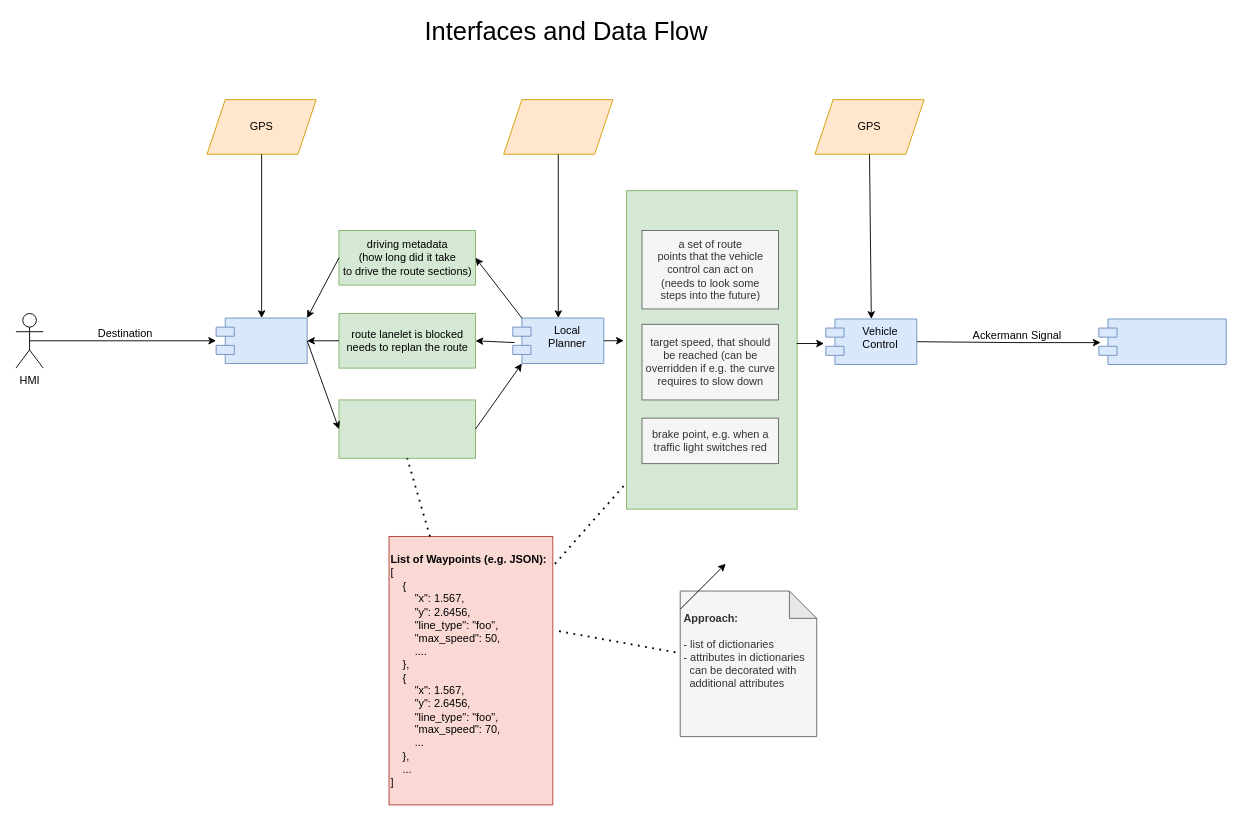
Image size: 1242x821. Some labels were removed from this diagram. The centre of each missing label's shape, as x and y in pixels:
"a set of route points, attached with some context information" belongs at point 406,428.
"Global Planner" belongs at point 261,340.
"GPS, Perception" belongs at point 558,126.
"Ros_Carla_Bridge" belongs at point 1162,341.
